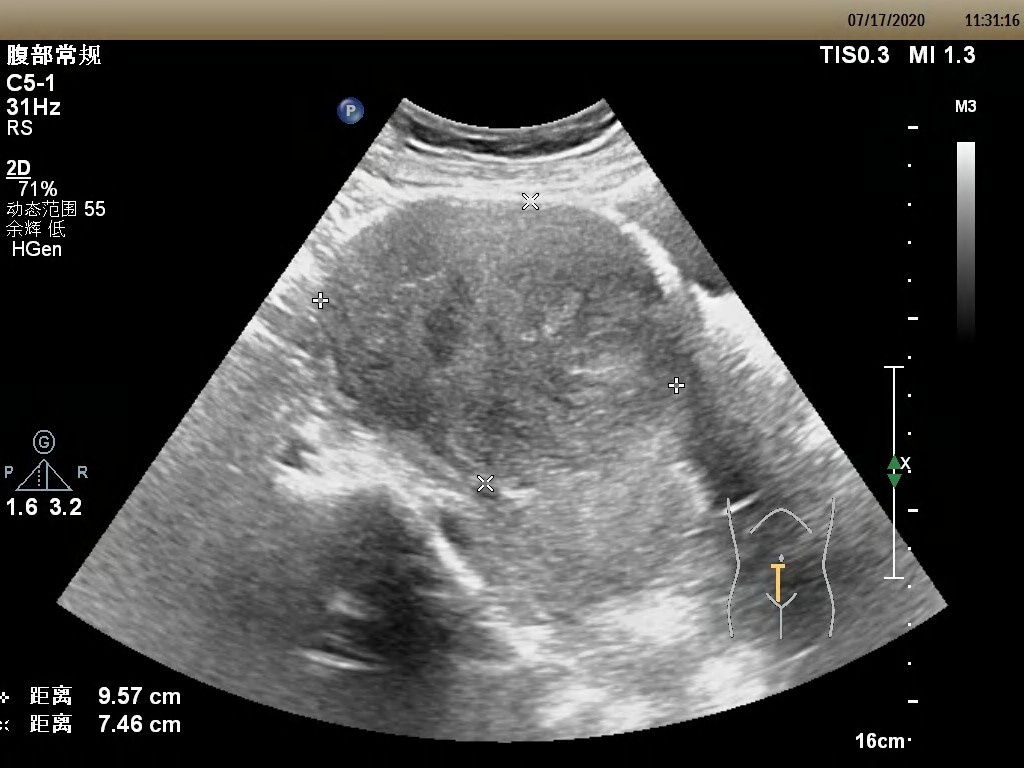肌瘤: (320, 199, 681, 487)
